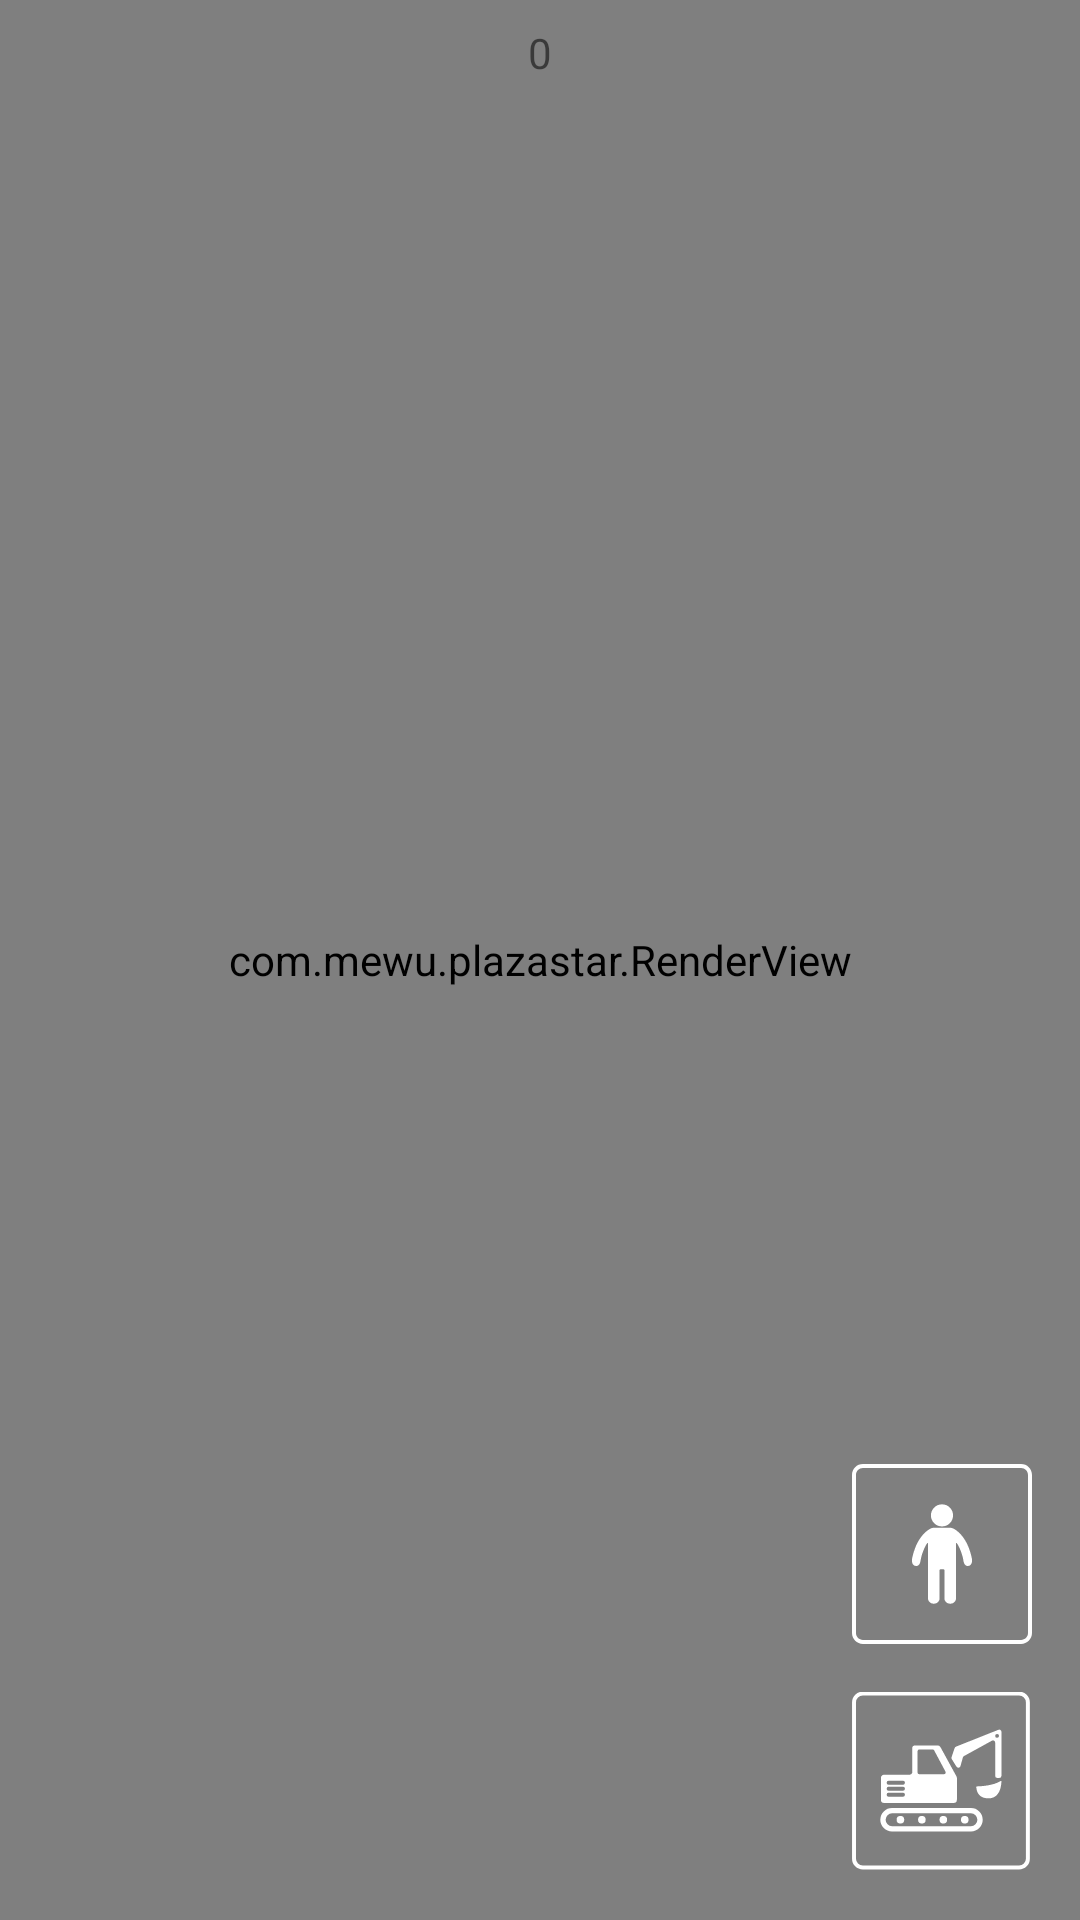

Where to tap for icons on this 1080*1920 app screen, as point (x, y):
gui people: point (942, 1554)
gui upgrade: point (941, 1781)
